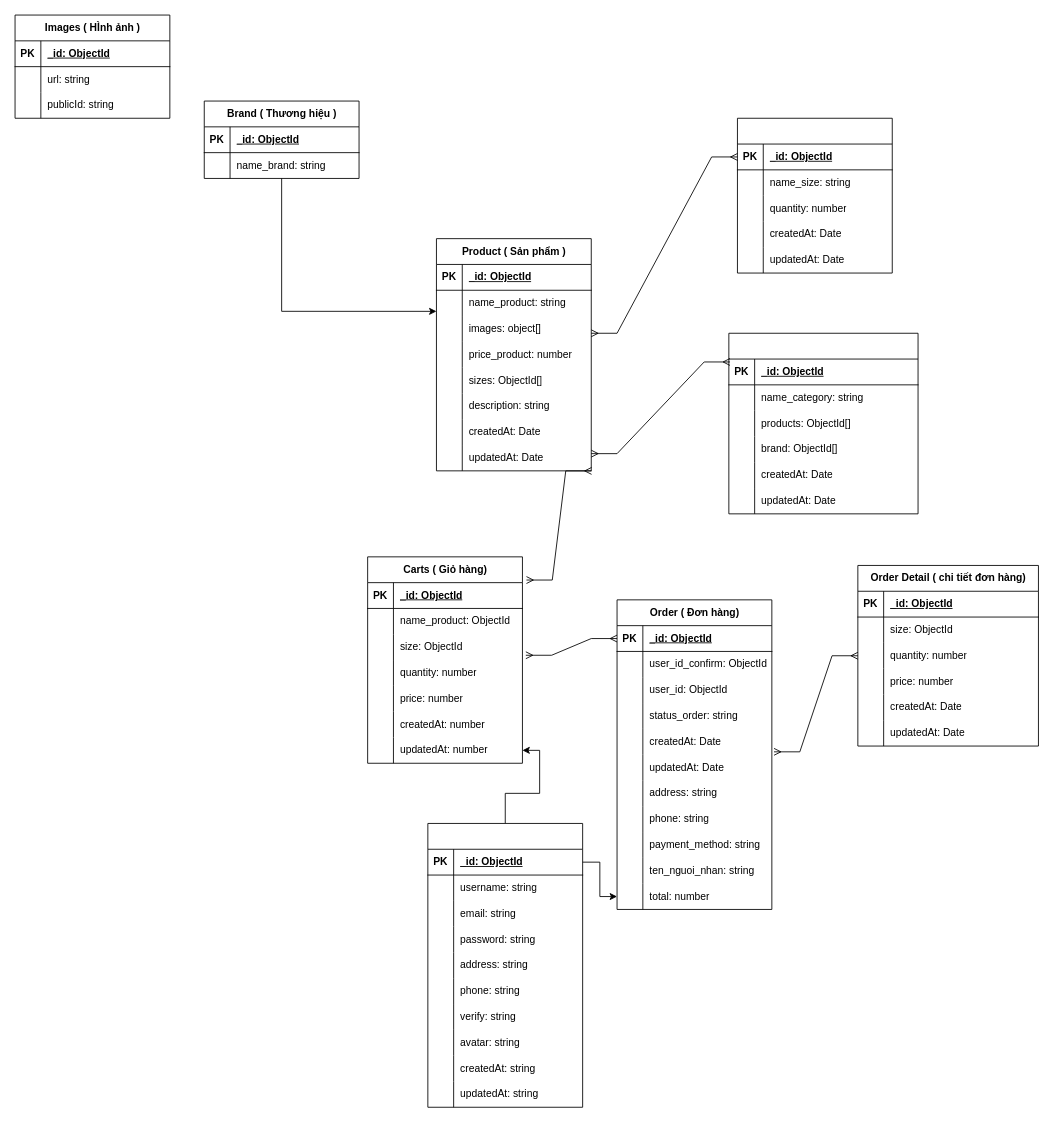
Image size: 1054x1122. Some labels were removed from this diagram. Each missing label, with the box of its shape:
Category ( Danh mục sản phẩm ): (728, 332, 918, 514)
Sizes ( Kích thước ): (737, 117, 892, 273)
User ( Người dùng ): (427, 823, 583, 1107)
